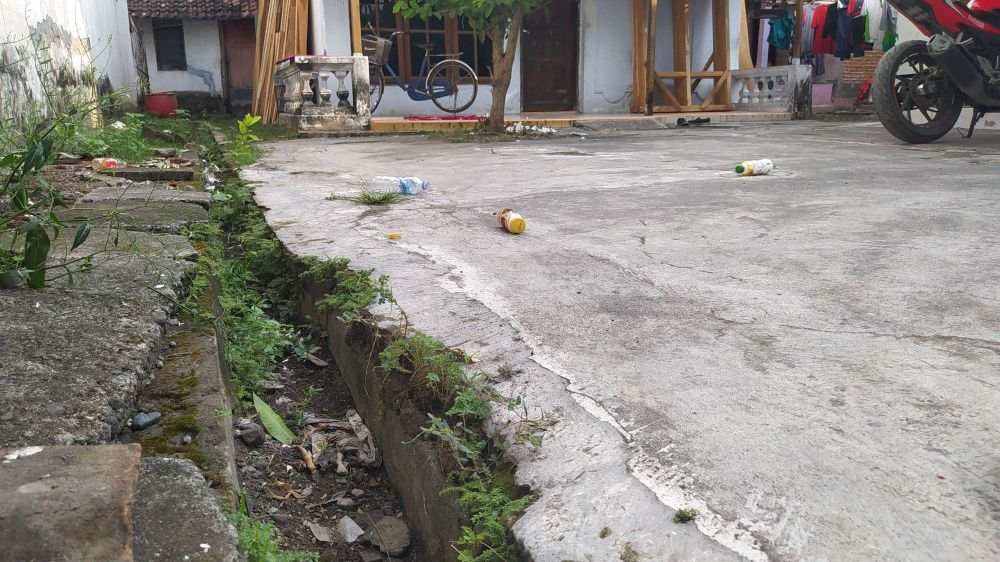botol: (365, 163, 437, 205), (483, 196, 532, 244), (739, 145, 786, 181), (90, 148, 130, 175)
